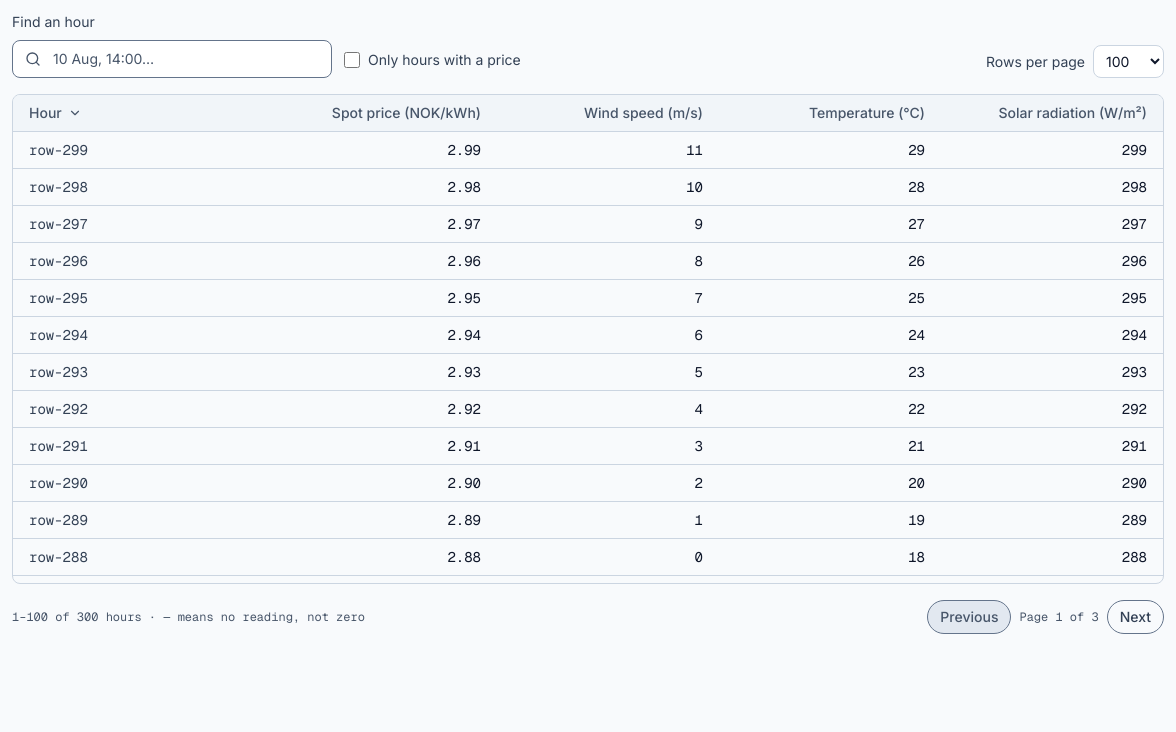
Test: HoursTable › keeps hours without a price out of the set when asked
The image size is (1176, 732).
Click the checkbox labelled "Only hours with a price" at (352, 60), box [344,52,360,68]
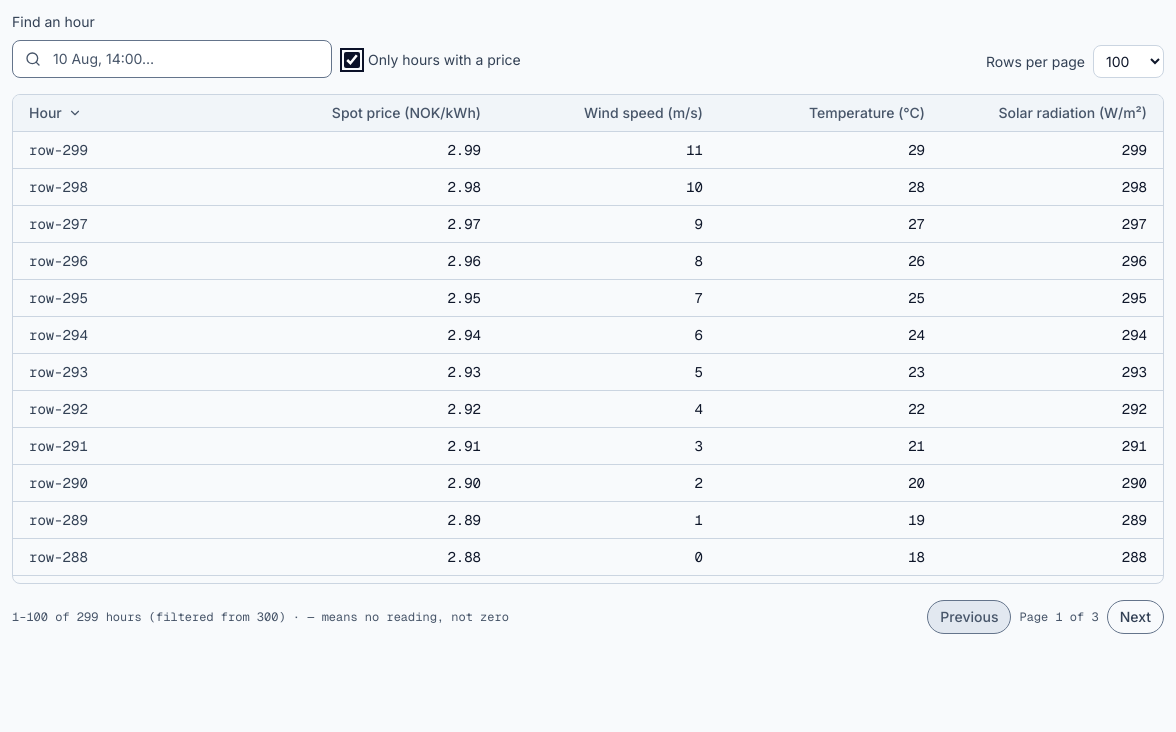
Now the text "1–100 of 299 hours" is shown, box [12,609,509,625]
